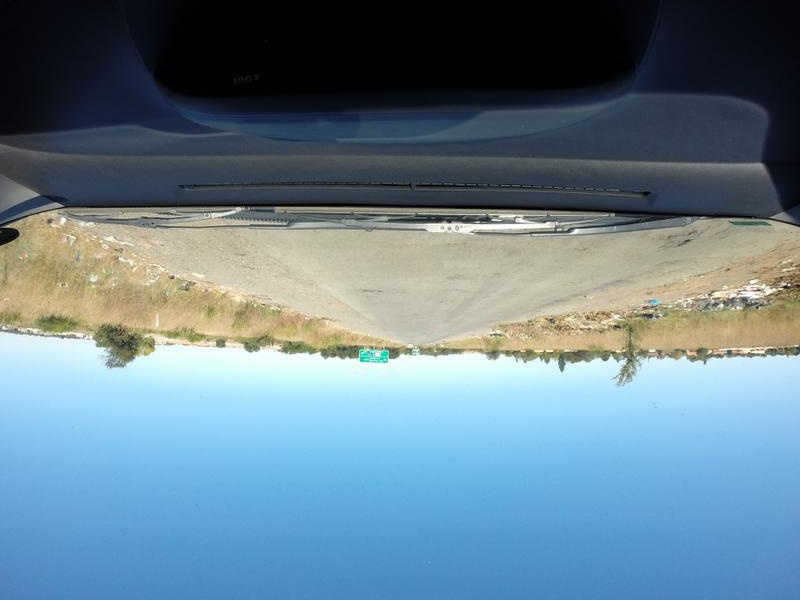pothole: (664, 226, 704, 264), (356, 277, 391, 294)
